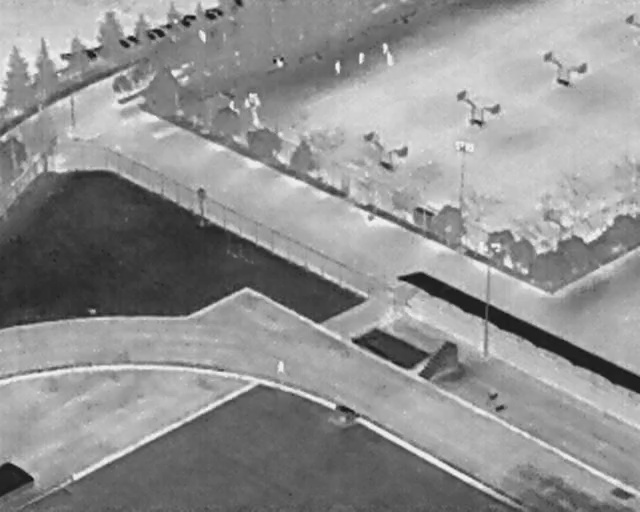Car: (144, 20, 168, 45), (201, 4, 225, 24), (81, 44, 100, 64), (58, 47, 76, 64), (177, 14, 195, 31), (115, 35, 132, 52), (123, 31, 140, 47), (183, 12, 197, 22), (161, 23, 175, 30)
Person: (247, 107, 262, 128), (275, 358, 286, 376), (227, 100, 240, 114), (251, 91, 261, 106), (386, 51, 395, 67), (334, 58, 342, 76), (242, 95, 252, 109), (381, 41, 389, 55), (358, 52, 366, 64)
